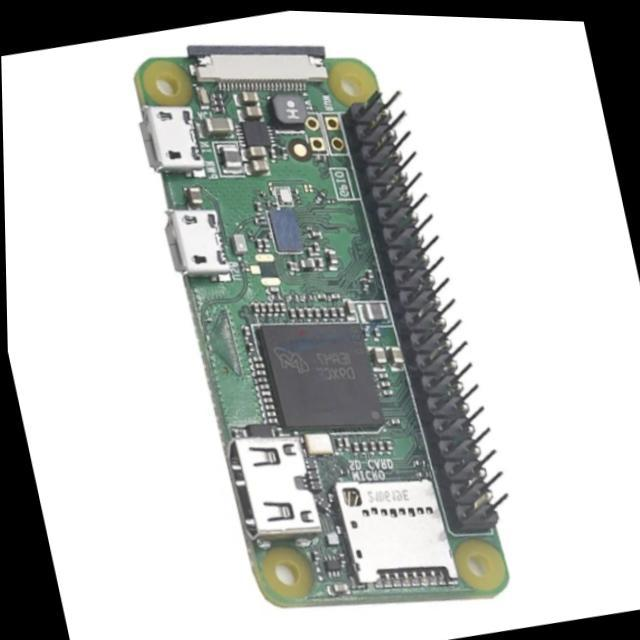Raspberry-Pi-Zero-WH: (135, 46, 510, 607)
